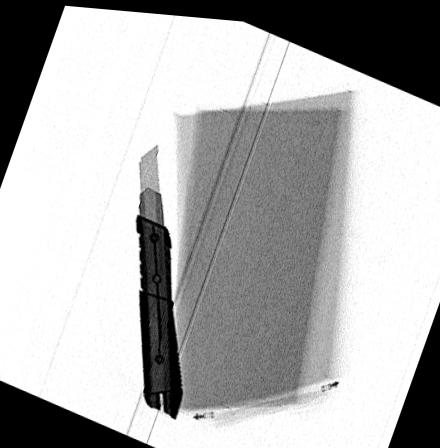Knife: (134, 141, 184, 417)
